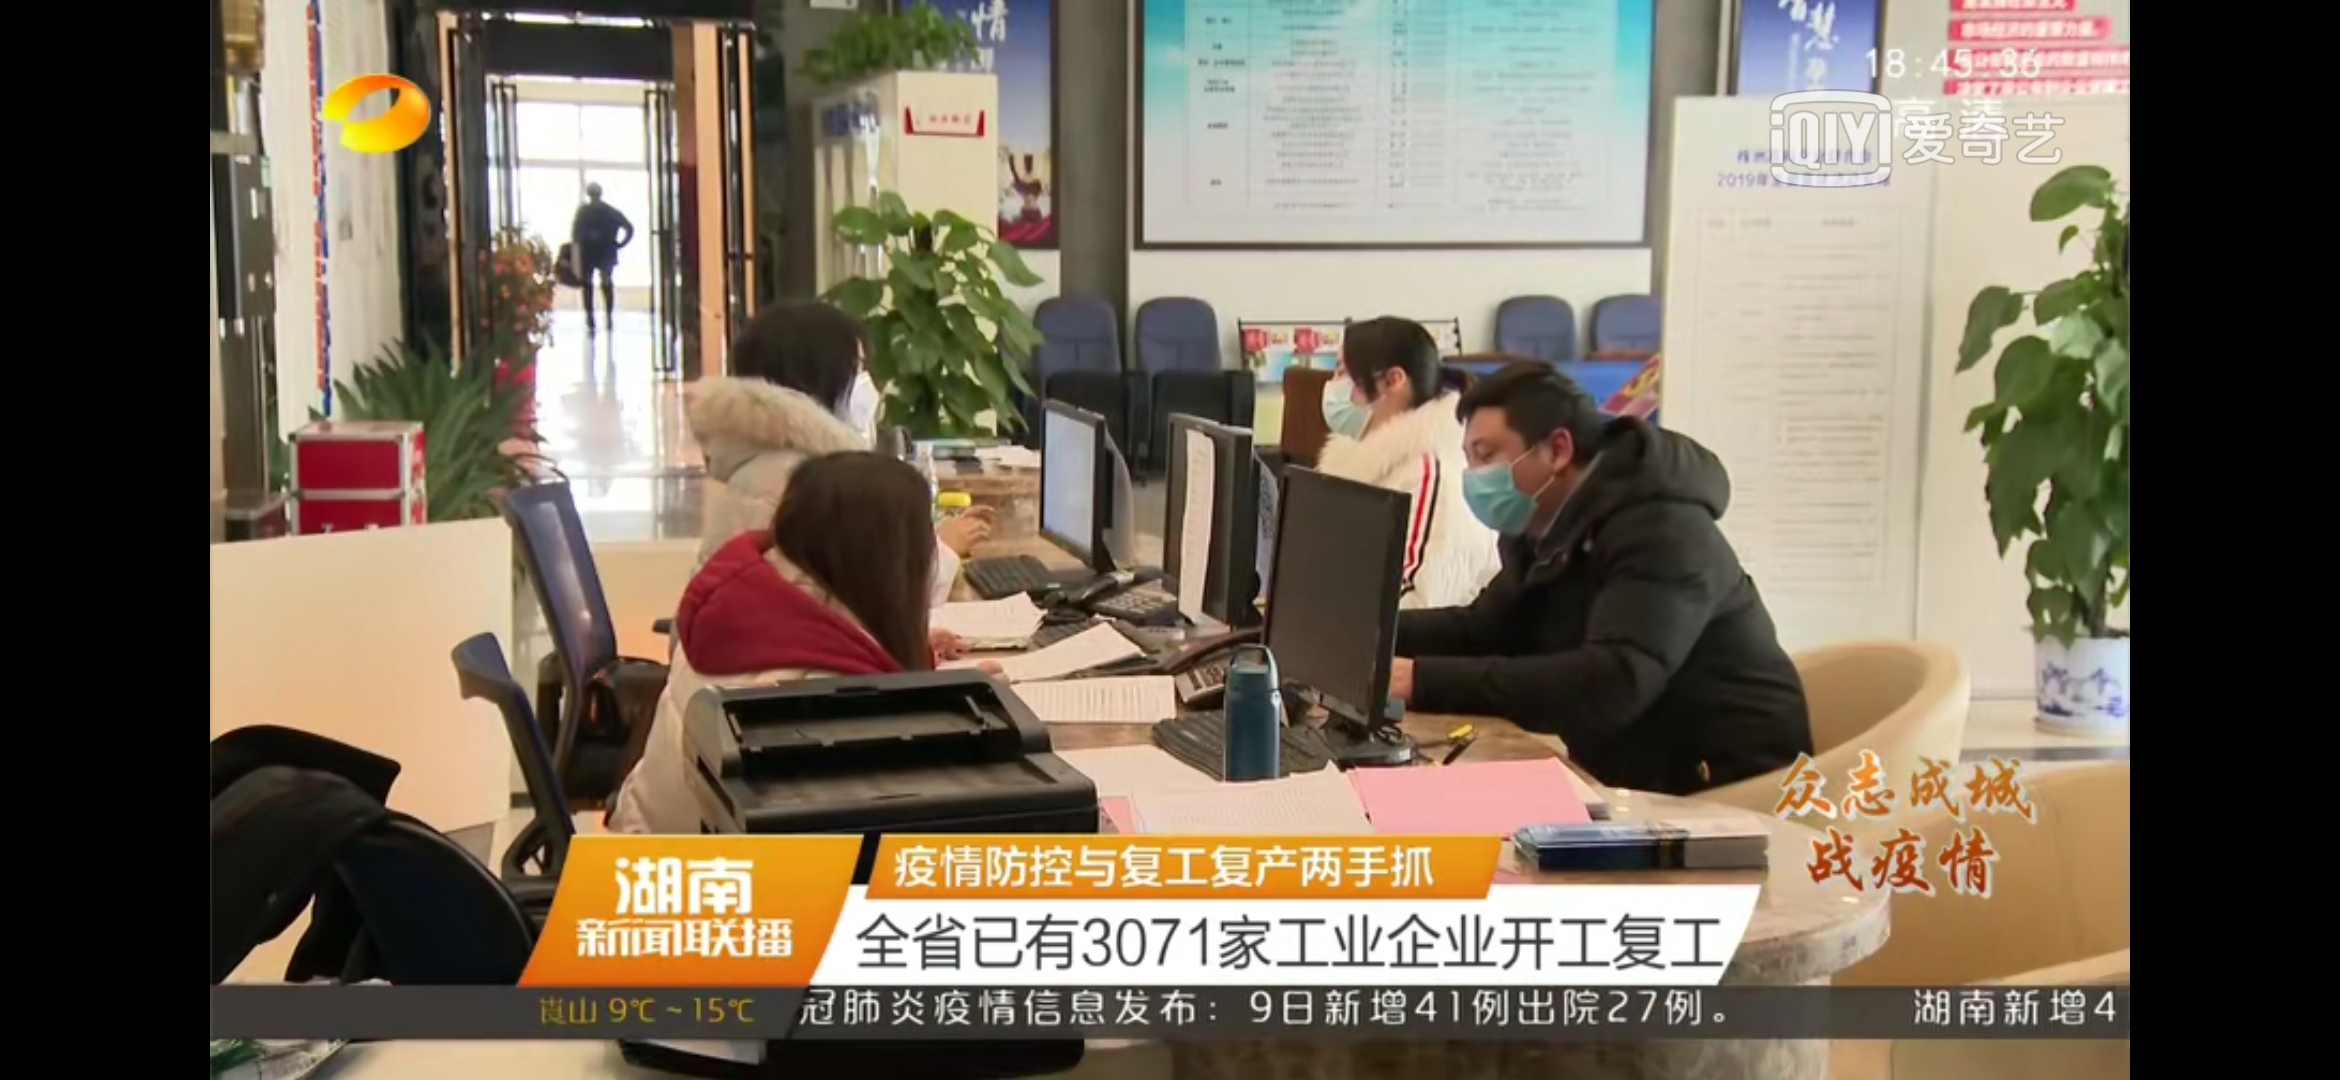correctlyWear: (1460, 412, 1577, 544), (1313, 357, 1410, 442), (891, 494, 963, 609), (822, 336, 882, 433)
